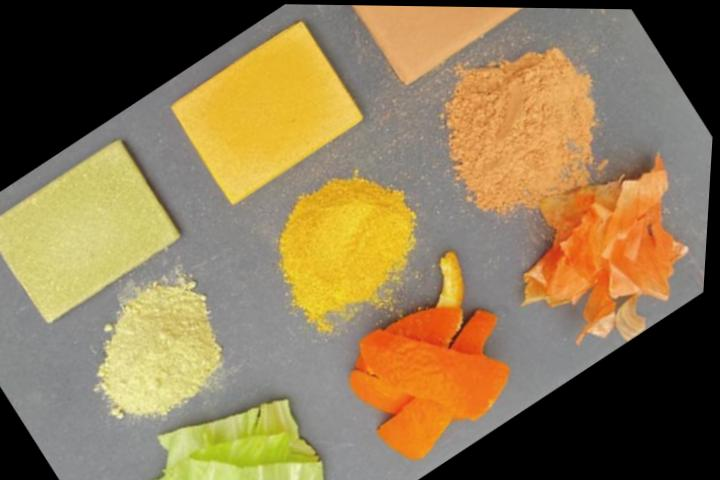organic: (471, 128, 713, 383), (342, 273, 532, 459), (346, 302, 541, 474), (105, 360, 363, 480)
